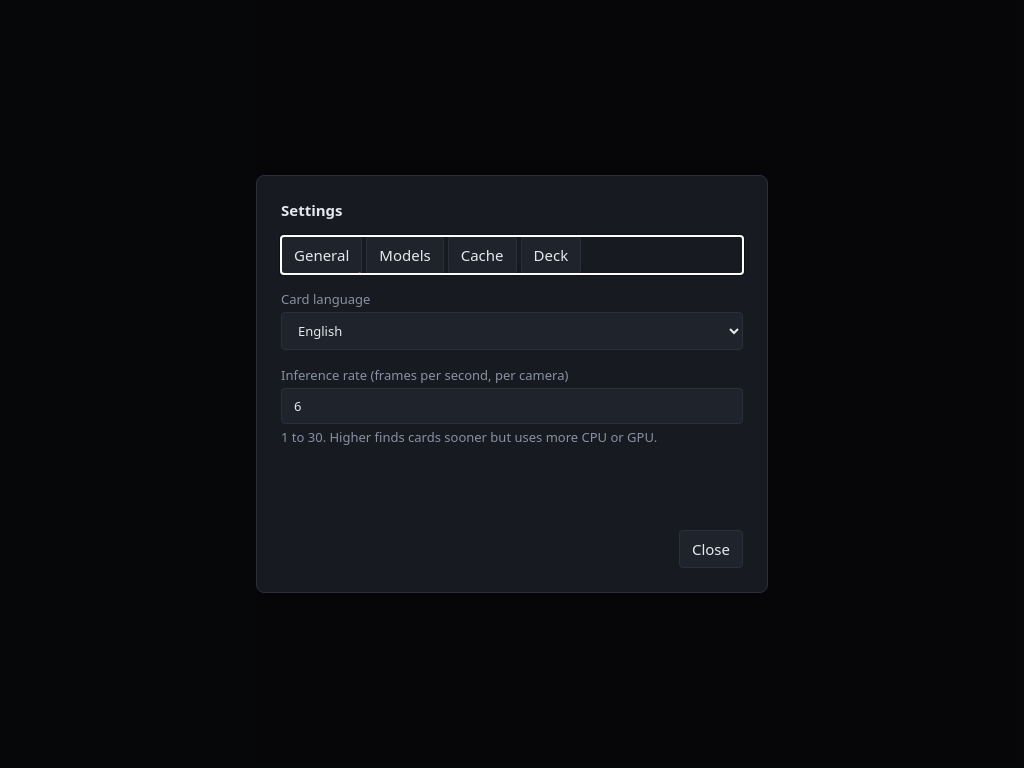
Test: SettingsModal › shows why the settings were rejected
Replace the text in the number field labelled "Inference rate" with "40": (512, 406) [281,388,743,424]
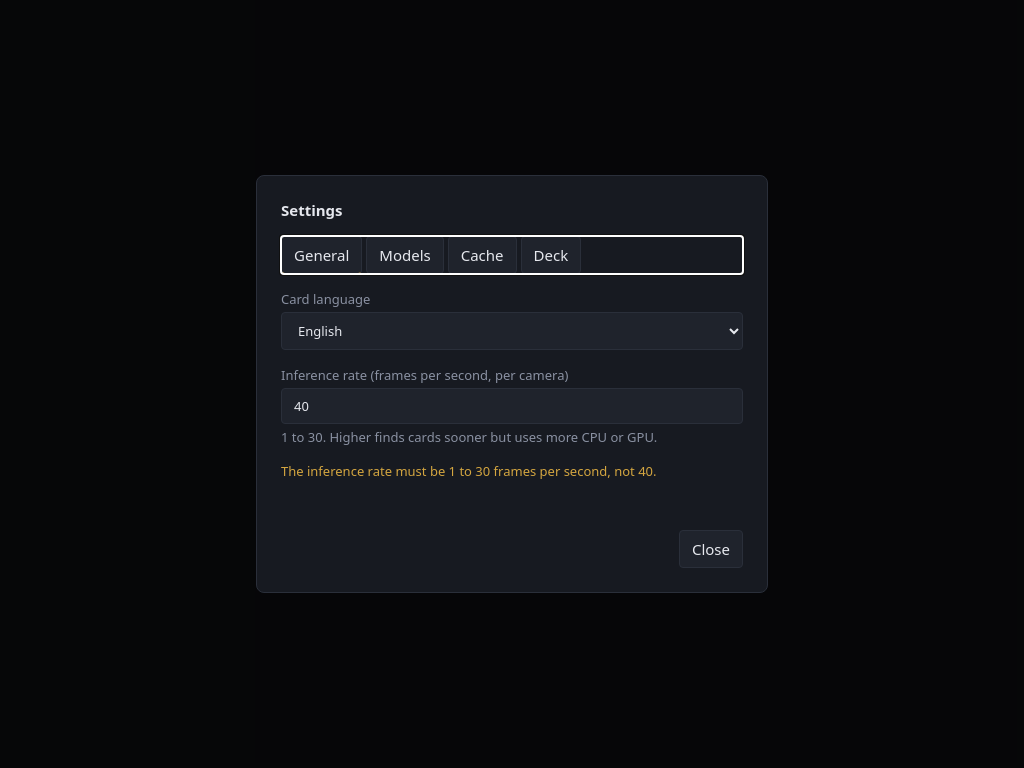
Result: the message shows "1 to 30" at [281,462,656,480]
